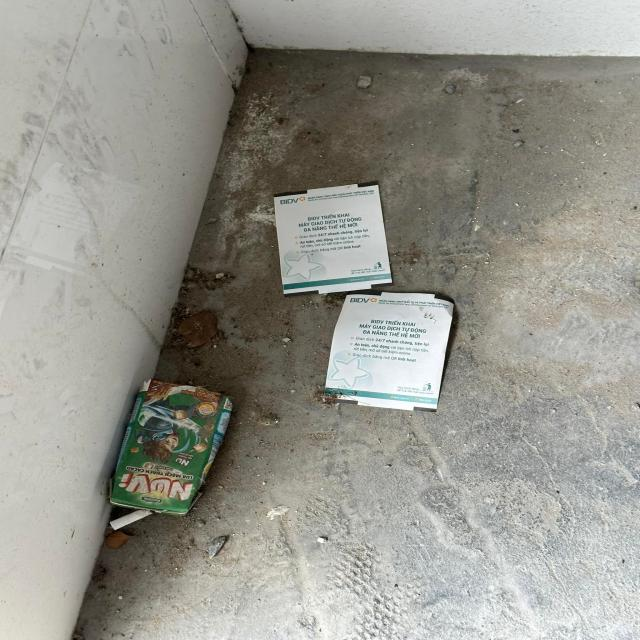milk box: (110, 380, 234, 530)
paper: (327, 288, 456, 412), (273, 181, 390, 295)
